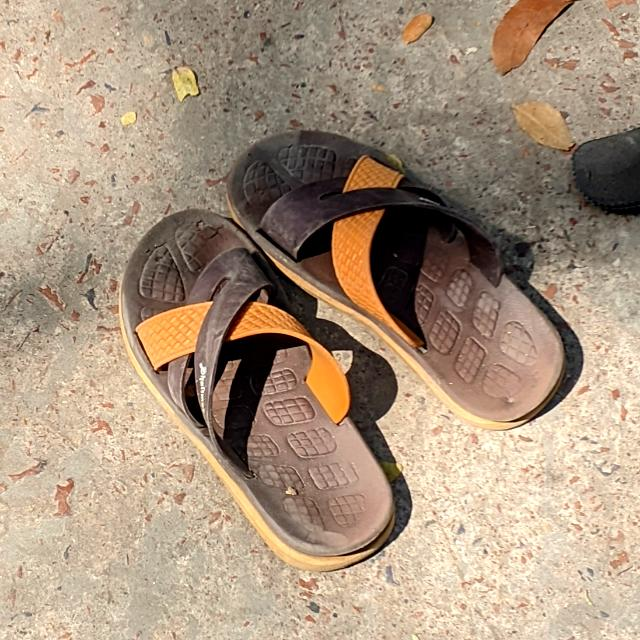sandal: (220, 75, 588, 454), (91, 194, 417, 598)
